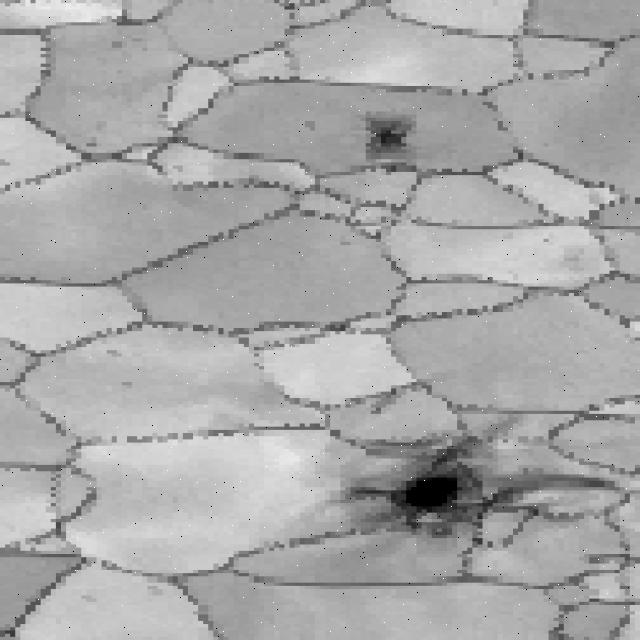good_void: (312, 429, 621, 543), (358, 120, 416, 165), (331, 234, 353, 254), (104, 39, 127, 52), (121, 377, 139, 390), (306, 121, 324, 134)
